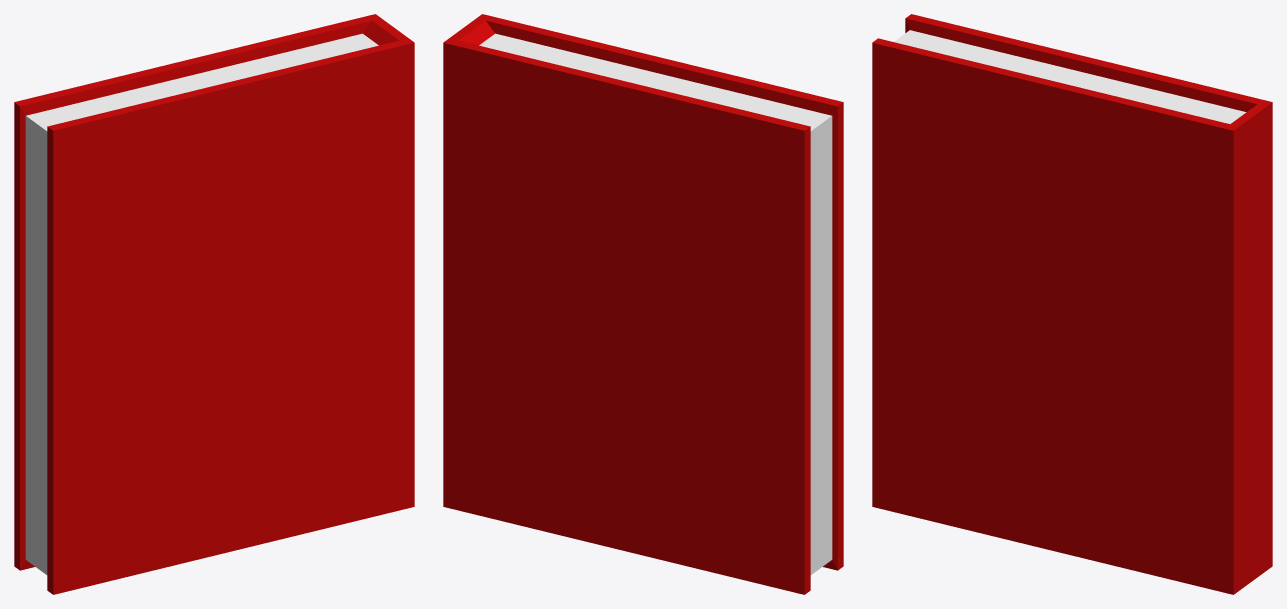
Rendered from Book_2.fbx.
The picture shows the model from 3 angles, left to right: view 1: azimuth 30°, elevation 25°; view 2: azimuth 150°, elevation 25°; view 3: azimuth 330°, elevation 25°; orthographic projection.
Parts seen in each view (by area): view 1: Book_2; view 2: Book_2; view 3: Book_2.
Boxes of the visible parts, x1,y1,x2,y2 form: Book_2: (14,14,414,594); Book_2: (443,14,843,594); Book_2: (872,14,1272,594).
Size of the model in its own units: 0.1719 by 0.211 by 0.0323.
